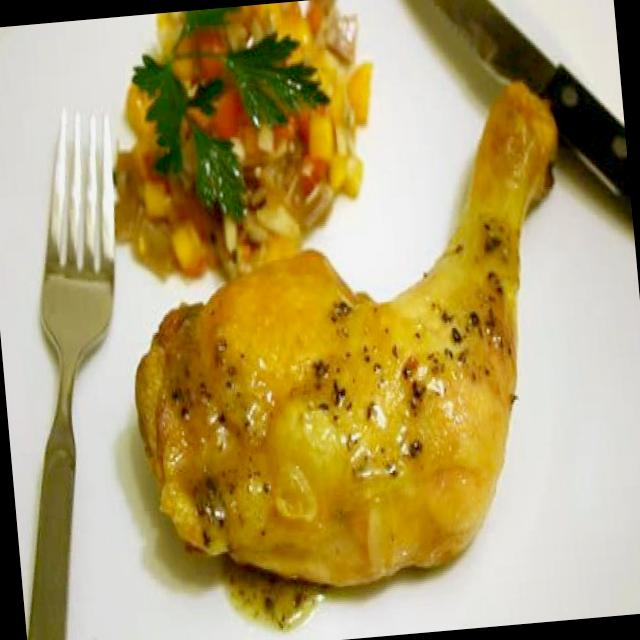Chicken: (115, 98, 594, 626)
